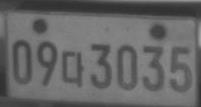0: (115, 44, 138, 91), (11, 39, 32, 85)
3: (141, 44, 165, 91), (89, 43, 112, 89)
5: (169, 45, 193, 92)
9: (36, 40, 57, 86)
다: (61, 50, 85, 87)
